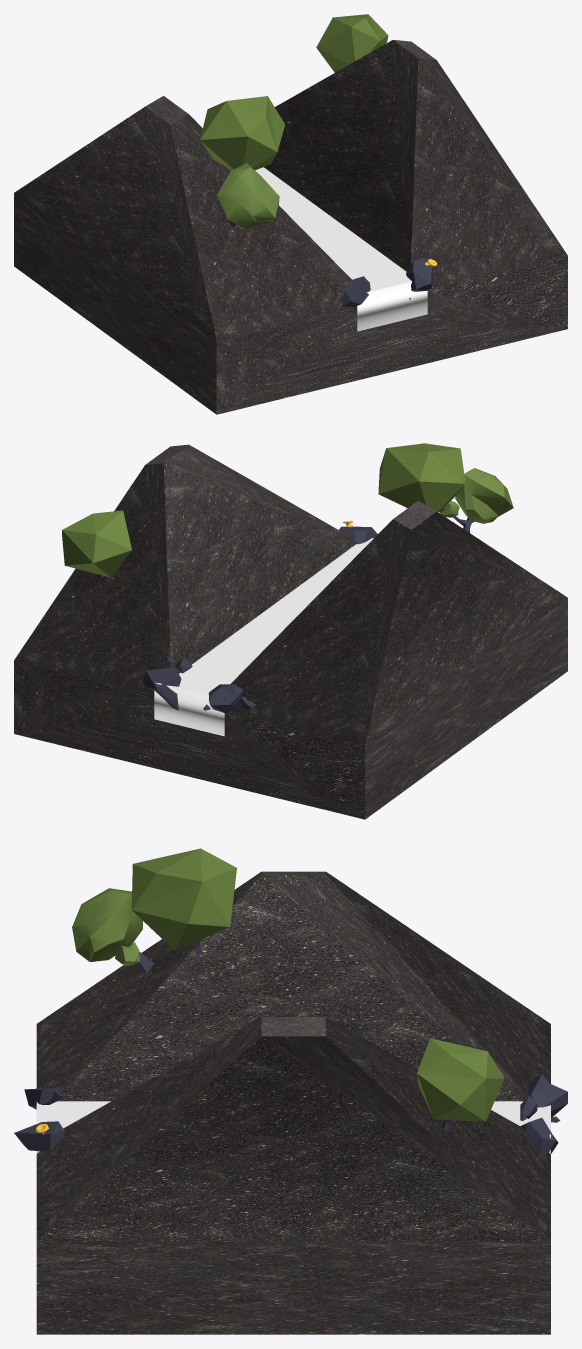
File: remediation.obj
3 renders of one model, top to bottom at view 1: azimuth 30°, elevation 25°; view 2: azimuth 150°, elevation 25°; view 3: azimuth 270°, elevation 25°, orthographic. The views are drawn at different scales.
Parts seen in each view (by area): view 1: 003_Box, 001_Box_1_&_water_&_water, 002_Box, 000_water, 010_Tree, 013_Crowns, 008_Tree, 006_stone, 007_stone; view 2: 002_Box, 003_Box, 001_Box_1_&_water_&_water, 000_water, 010_Tree, 008_Tree, 013_Crowns, 005_stone, 004_stone; view 3: 003_Box, 002_Box, 001_Box_1_&_water_&_water, 010_Tree, 008_Tree, 013_Crowns, 000_water, 005_stone, 004_stone, 006_stone.
Boxes of the visible parts, x1,y1,x2,y2 form: 003_Box: (264, 40, 567, 288); 001_Box_1_&_water_&_water: (14, 193, 567, 414); 002_Box: (14, 96, 356, 340); 000_water: (255, 167, 427, 331); 010_Tree: (200, 96, 285, 170); 013_Crowns: (217, 163, 279, 229); 008_Tree: (316, 14, 388, 72); 006_stone: (406, 257, 433, 299); 007_stone: (341, 276, 370, 307); 002_Box: (228, 500, 567, 745); 003_Box: (14, 444, 356, 694); 001_Box_1_&_water_&_water: (14, 598, 567, 819); 000_water: (154, 538, 373, 736); 010_Tree: (378, 443, 465, 511); 008_Tree: (62, 510, 131, 577); 013_Crowns: (439, 468, 513, 523); 005_stone: (142, 656, 192, 710); 004_stone: (203, 684, 256, 713); 003_Box: (36, 1017, 550, 1241); 002_Box: (36, 871, 550, 1101); 001_Box_1_&_water_&_water: (36, 1241, 550, 1334); 010_Tree: (131, 848, 236, 950); 008_Tree: (417, 1038, 504, 1121); 013_Crowns: (72, 888, 142, 966); 000_water: (36, 1101, 550, 1153); 005_stone: (520, 1095, 558, 1156); 004_stone: (528, 1074, 567, 1122); 006_stone: (14, 1121, 64, 1151).
Bounding box in the file's own units: 100 × 67.55 × 108.
